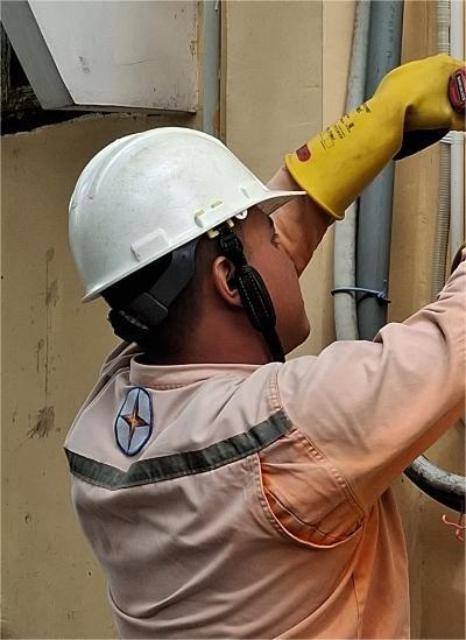gloves: (260, 42, 466, 204)
helmet: (25, 107, 297, 291)
